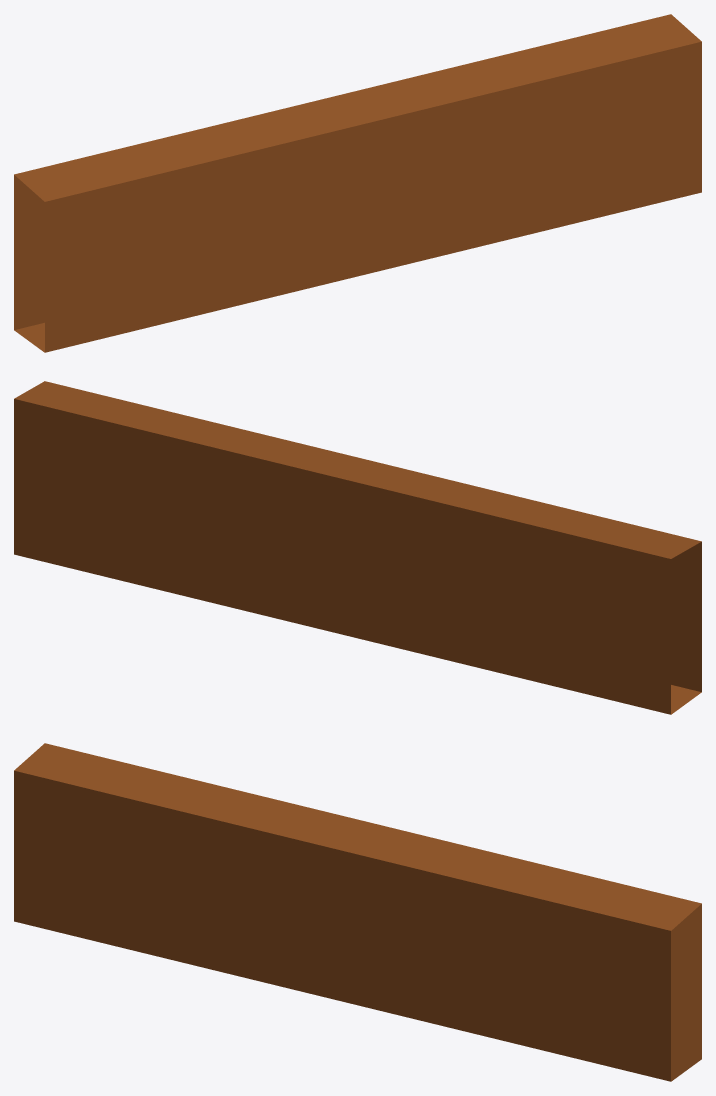
Rendered from wandbalken_end.FBX.
The picture shows the model from 3 angles, top to bottom: view 1: azimuth 30°, elevation 25°; view 2: azimuth 150°, elevation 25°; view 3: azimuth 330°, elevation 25°; orthographic projection.
Parts seen in each view (by area): view 1: wandbalken_end; view 2: wandbalken_end; view 3: wandbalken_end.
Boxes of the visible parts, bbox=[...] form: wandbalken_end: bbox=[14, 14, 701, 352]; wandbalken_end: bbox=[14, 381, 701, 714]; wandbalken_end: bbox=[14, 743, 701, 1081].
Size of the model in its own units: 8.61 by 1.95 by 0.7.
